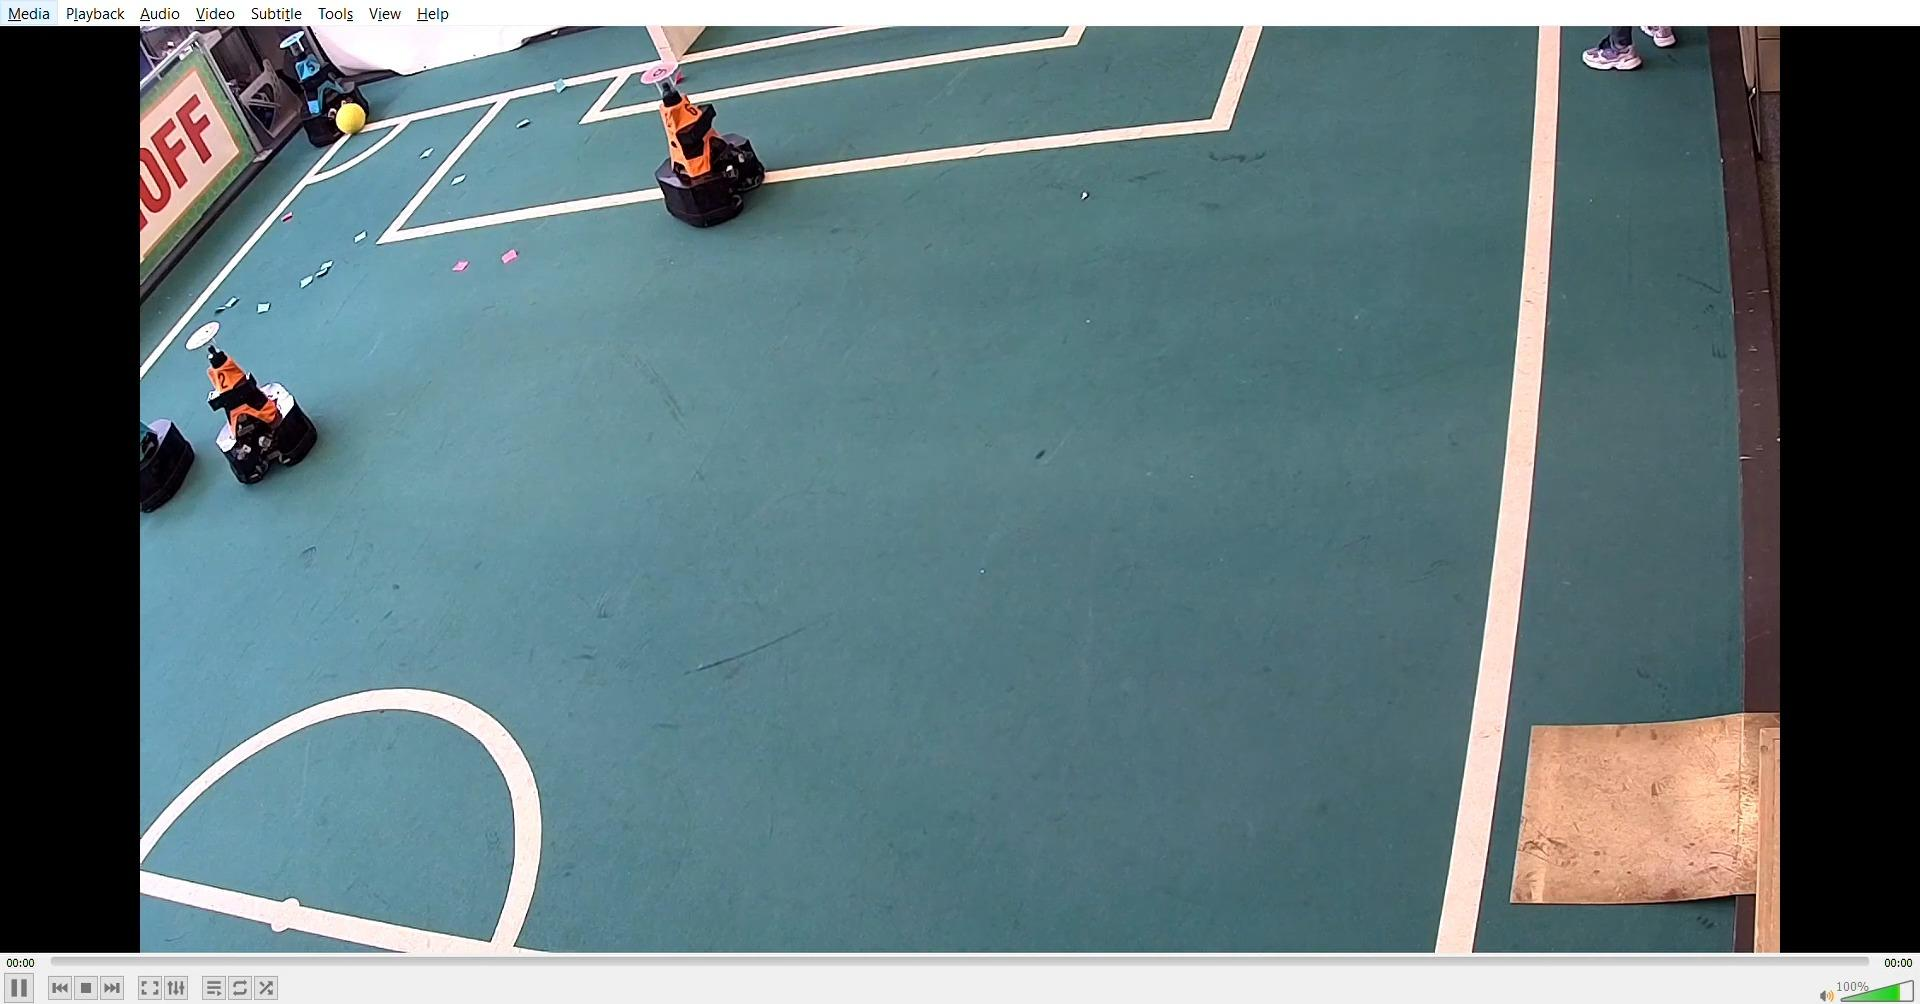Ball: (331, 100, 370, 133)
Team_Blue: (272, 33, 381, 141)
Team_Red: (179, 320, 339, 481), (639, 56, 786, 223)
